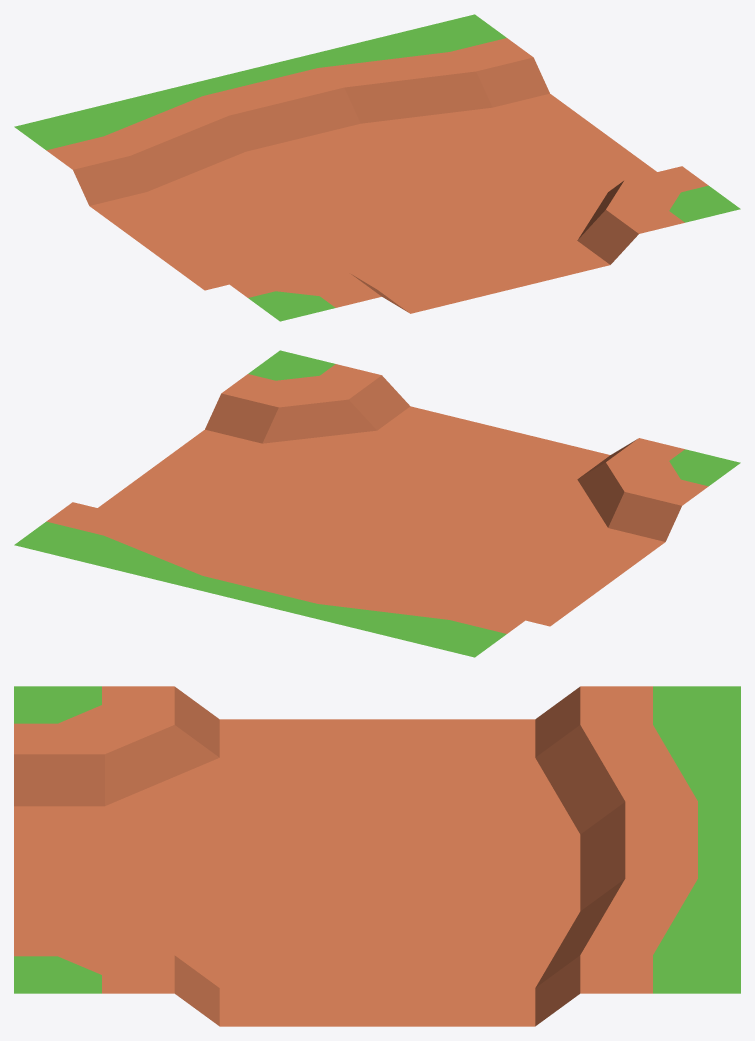
The model's file is ground_pathSplit.glb.
3 views of the same model, one above another, from view 1: azimuth 30°, elevation 25°; view 2: azimuth 150°, elevation 25°; view 3: azimuth 270°, elevation 25° (orthographic). The views are drawn at different scales.
Parts seen in each view (by area): view 1: ground_pathSplit; view 2: ground_pathSplit; view 3: ground_pathSplit.
Boxes of the visible parts, x1,y1,x2,y2 form: ground_pathSplit: [14, 14, 740, 321]; ground_pathSplit: [14, 350, 740, 657]; ground_pathSplit: [14, 686, 740, 1026].
Size of the model in its own units: 1 by 0.05 by 1.
